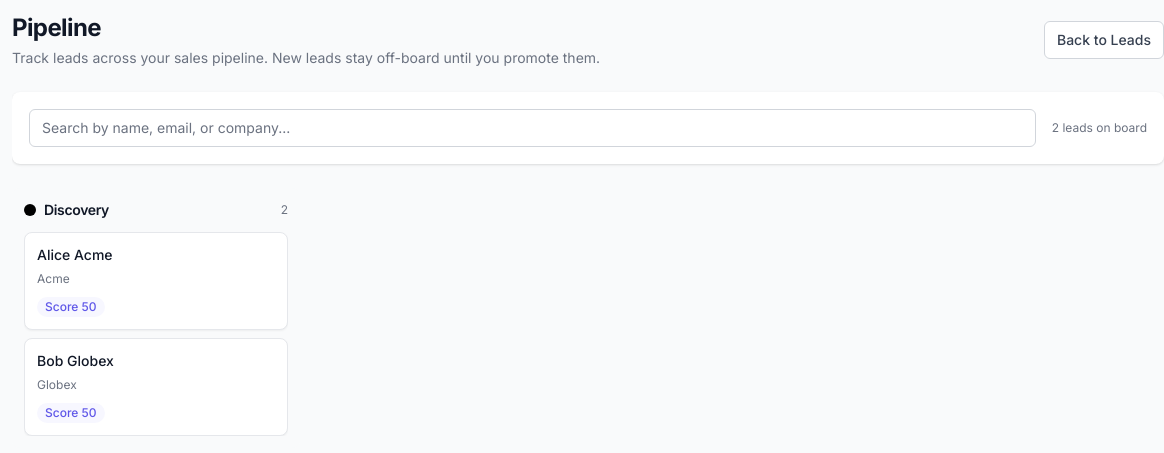
Test: PipelinePage › filters leads in-memory when the search input is typed into
expect the button "Alice Acme" is shown: met, box [37,245,113,265]
expect the button "Bob Globex" is shown: met, box [37,351,114,371]
Type "globex" into the search field named "Search pipeline" at (532, 128), box [29,109,1036,147]
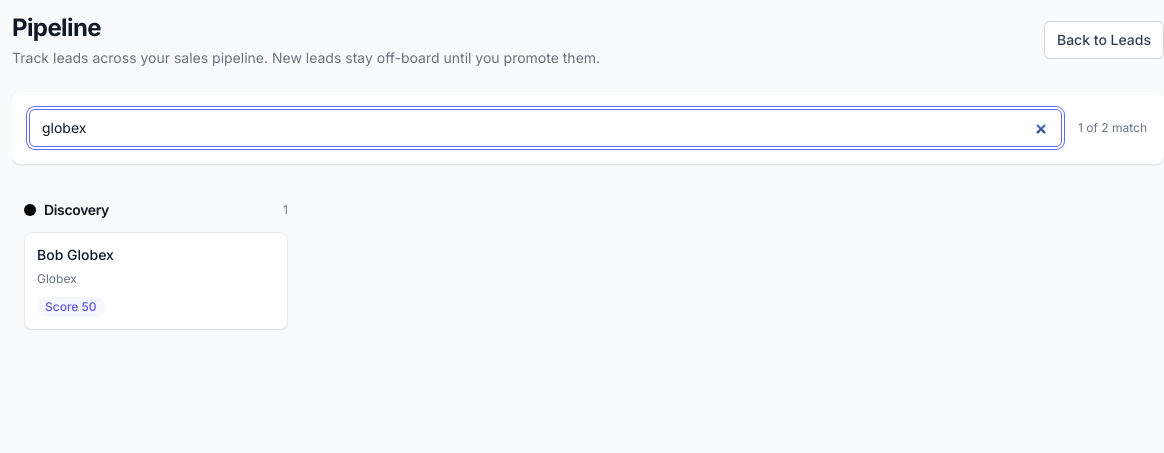
expect the button "Bob Globex" is shown: met, box [37,245,114,265]
expect the button "Alice Acme" is gone: met
expect the text "1 of 2 match" is shown: met, box [1078,120,1147,136]
